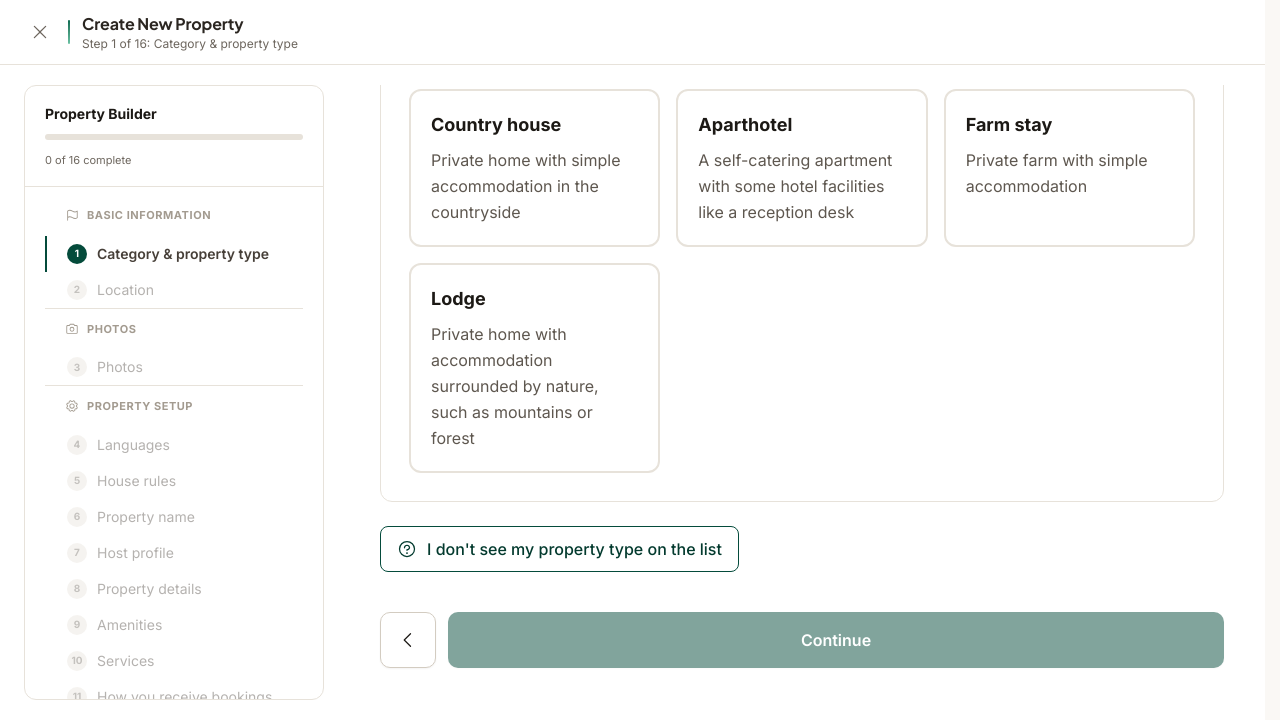
PropertyHomeCategoryPage — which category is most similar › goes back to the booking type with the answer kept
(page scrolled)
Click the button named "Back" at (408, 640), box [380,612,436,668]
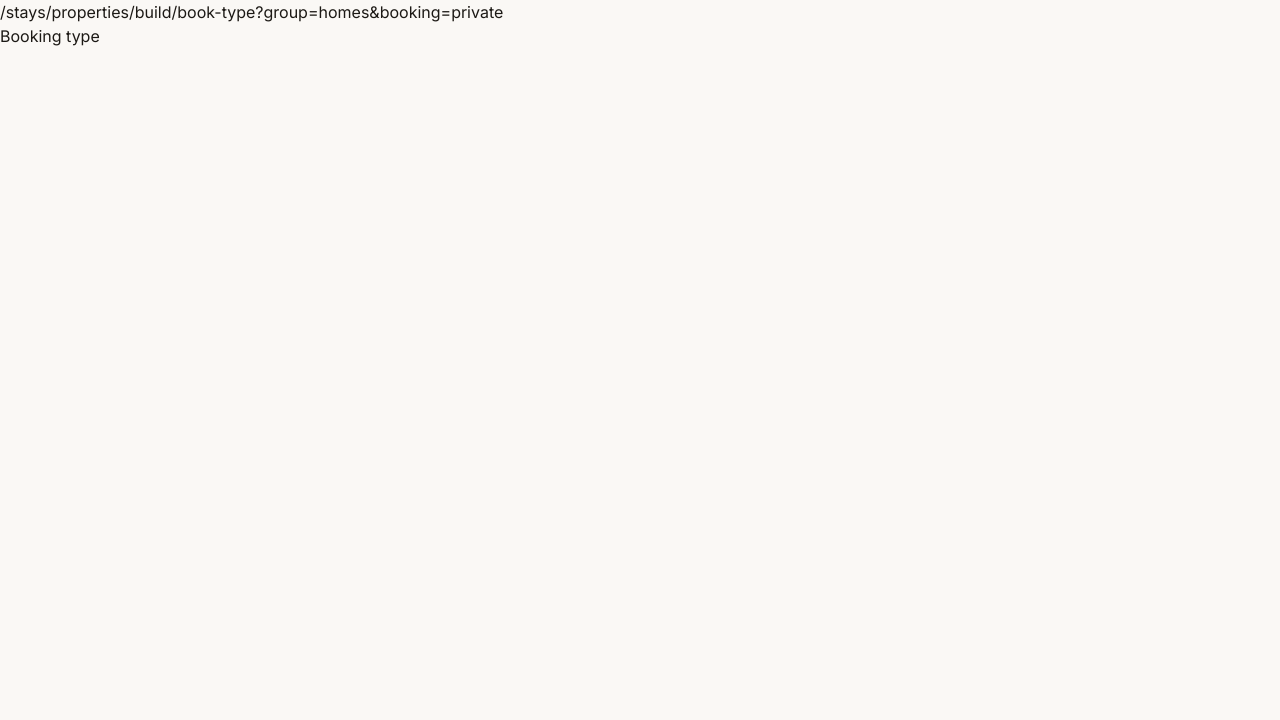
Result: the text with test id "location" reads "/stays/properties/build/book-type?group=homes&booking=private" at [0,2,503,22]
